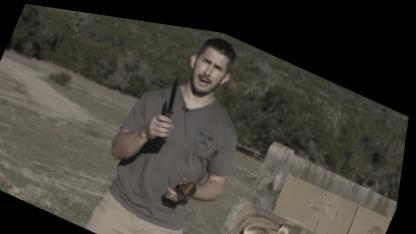knife: (146, 58, 198, 137)
